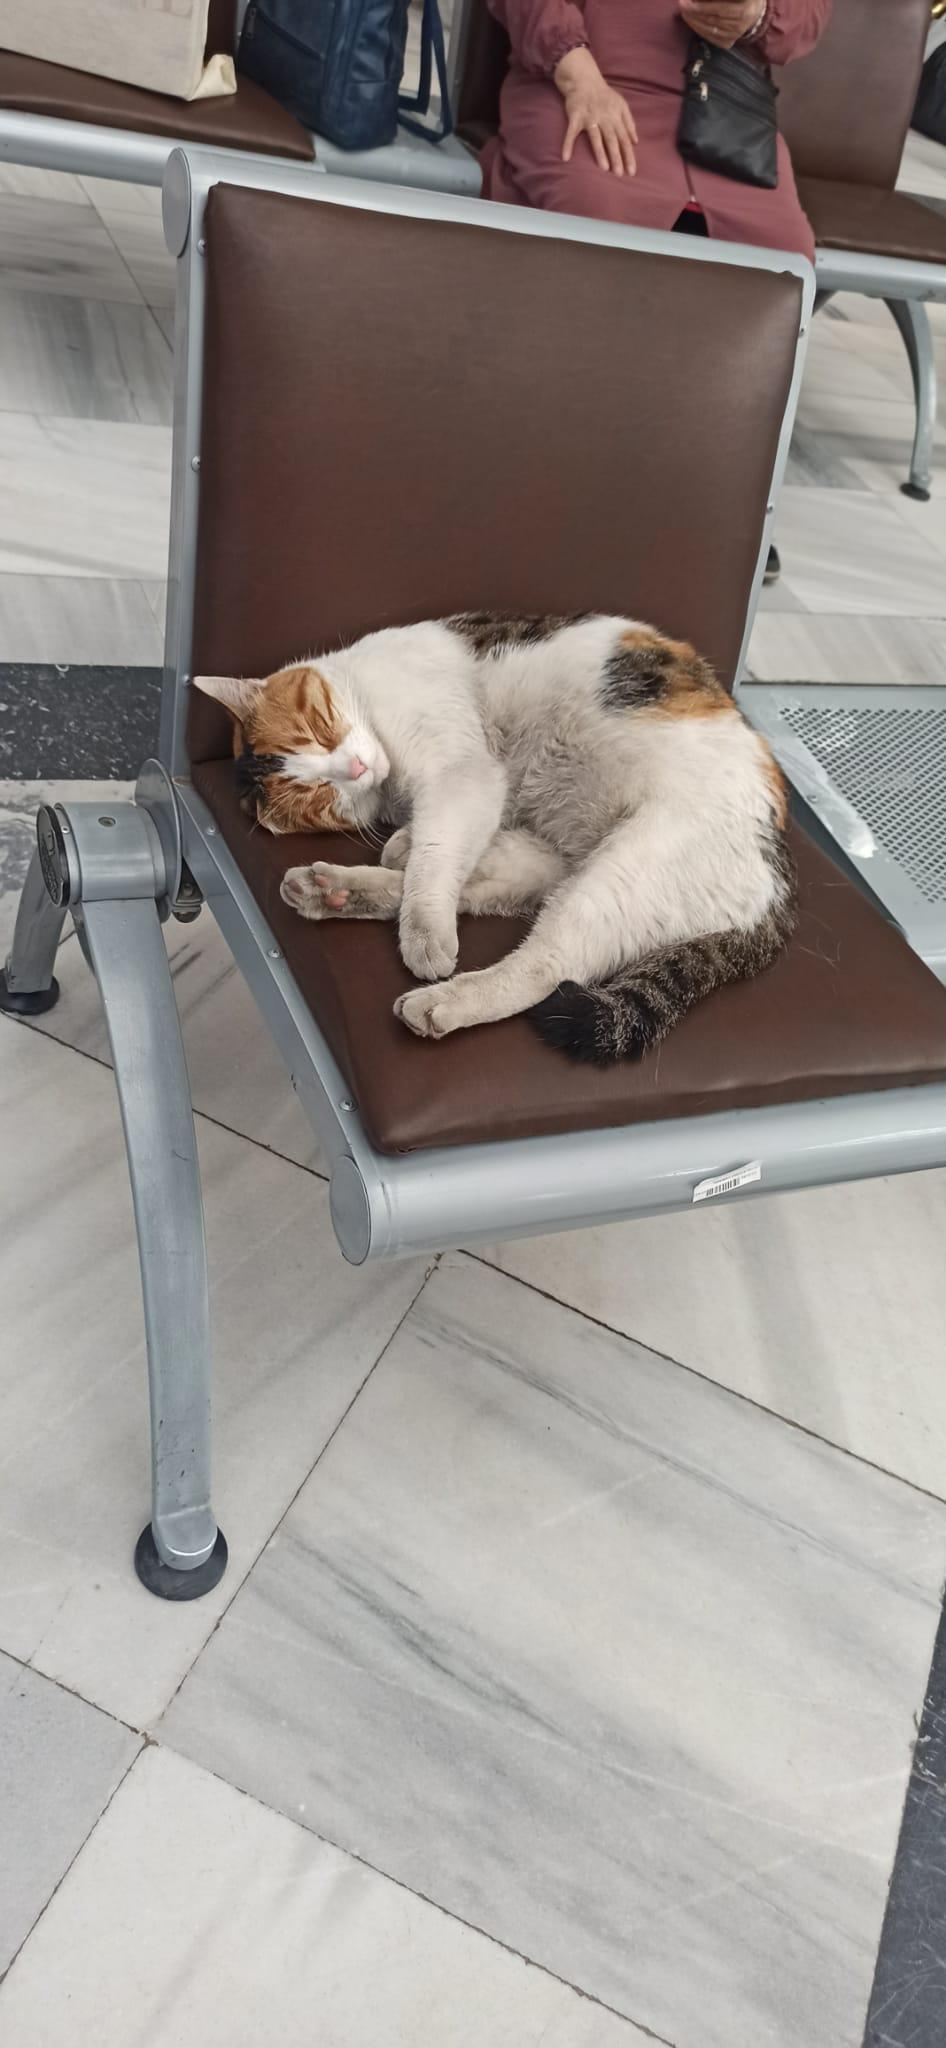kedo: (186, 609, 787, 1059)
